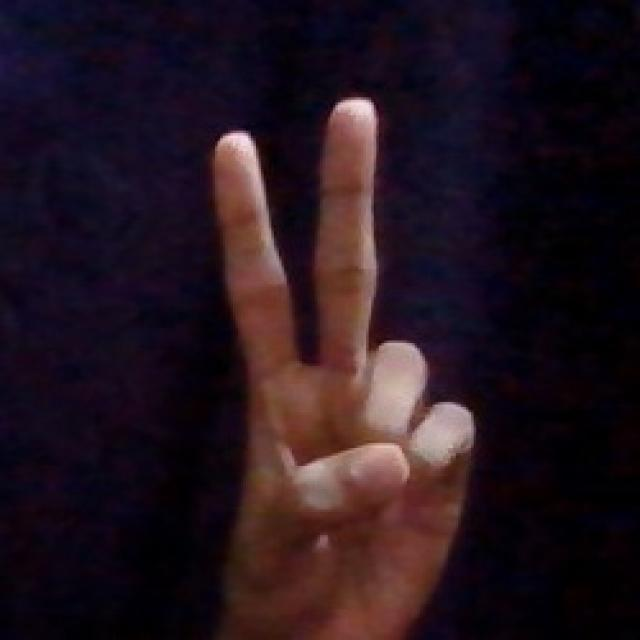Numeric-2: (207, 93, 472, 625)
